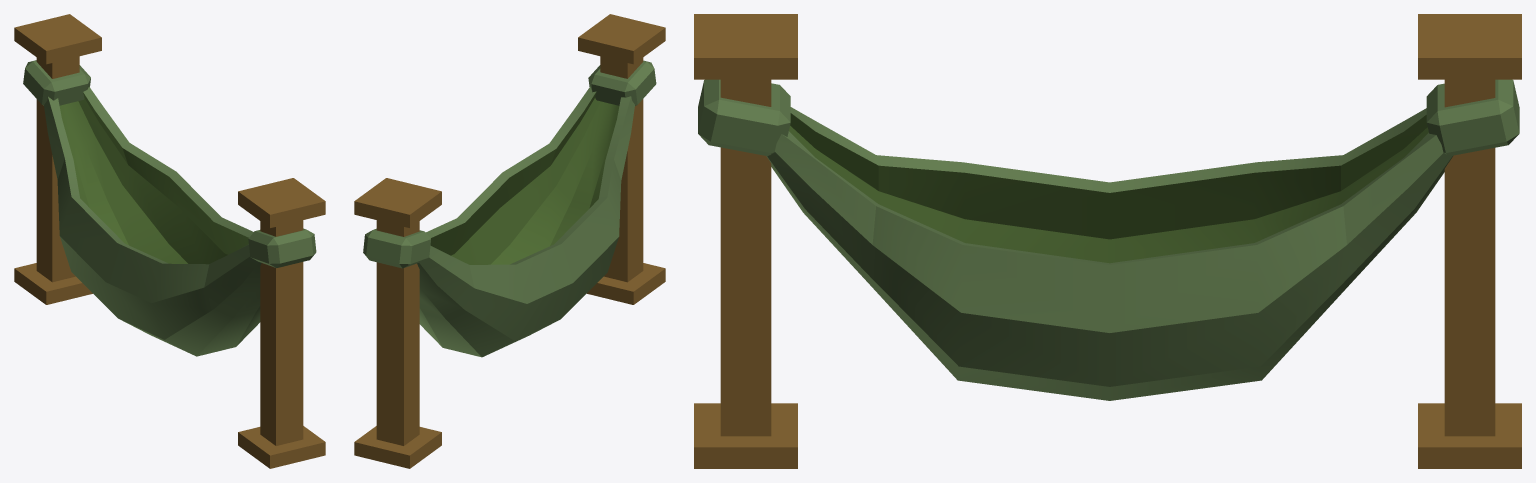
The model's file is HammockSingle.fbx.
3 views of the same model, side by side, from view 1: azimuth 30°, elevation 25°; view 2: azimuth 150°, elevation 25°; view 3: azimuth 270°, elevation 25° (orthographic). The views are drawn at different scales.
Visible parts, largest first — view 1: HammockGreen, HammockSPost1, HammockSPost2; view 2: HammockGreen, HammockSPost2, HammockSPost1; view 3: HammockGreen, HammockSPost1, HammockSPost2.
Boxes of the visible parts, x1,y1,x2,y2 form: HammockGreen: (23,60,316,356); HammockSPost1: (238,178,325,468); HammockSPost2: (14,14,101,304); HammockGreen: (363,60,656,357); HammockSPost2: (354,178,441,468); HammockSPost1: (578,14,665,304); HammockGreen: (698,79,1519,400); HammockSPost1: (694,14,797,468); HammockSPost2: (1418,14,1521,468).
Size of the model in its own units: 4.67 by 8.9 by 16.24.
